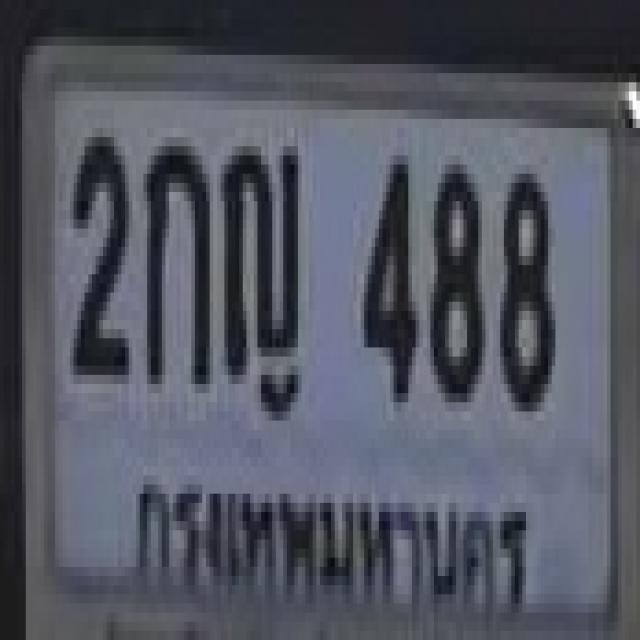-: (221, 137, 298, 375), (143, 137, 206, 375)
2: (70, 128, 125, 366)
4: (360, 146, 412, 393)
8: (496, 165, 552, 402), (427, 156, 478, 393)
BKK: (126, 462, 543, 630)
